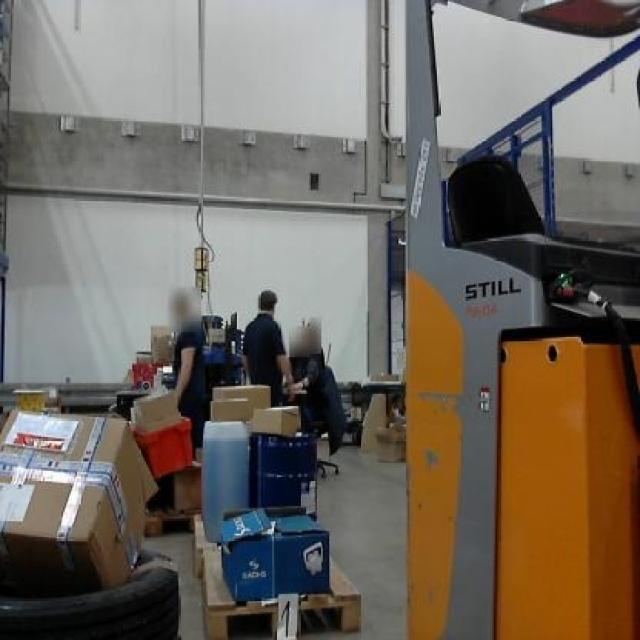pallets: (0, 409, 154, 592), (220, 508, 326, 598)
